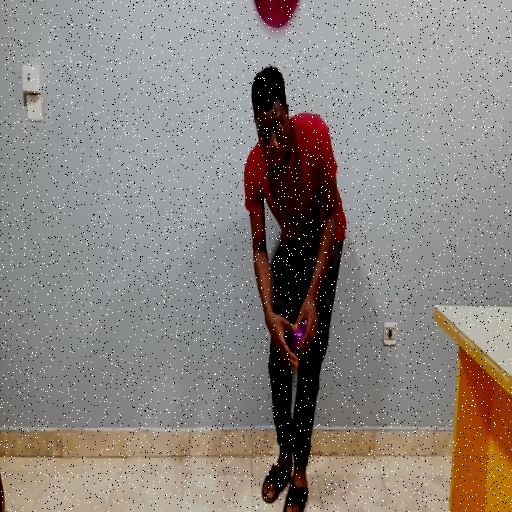plastic-ball: (255, 0, 298, 28)
